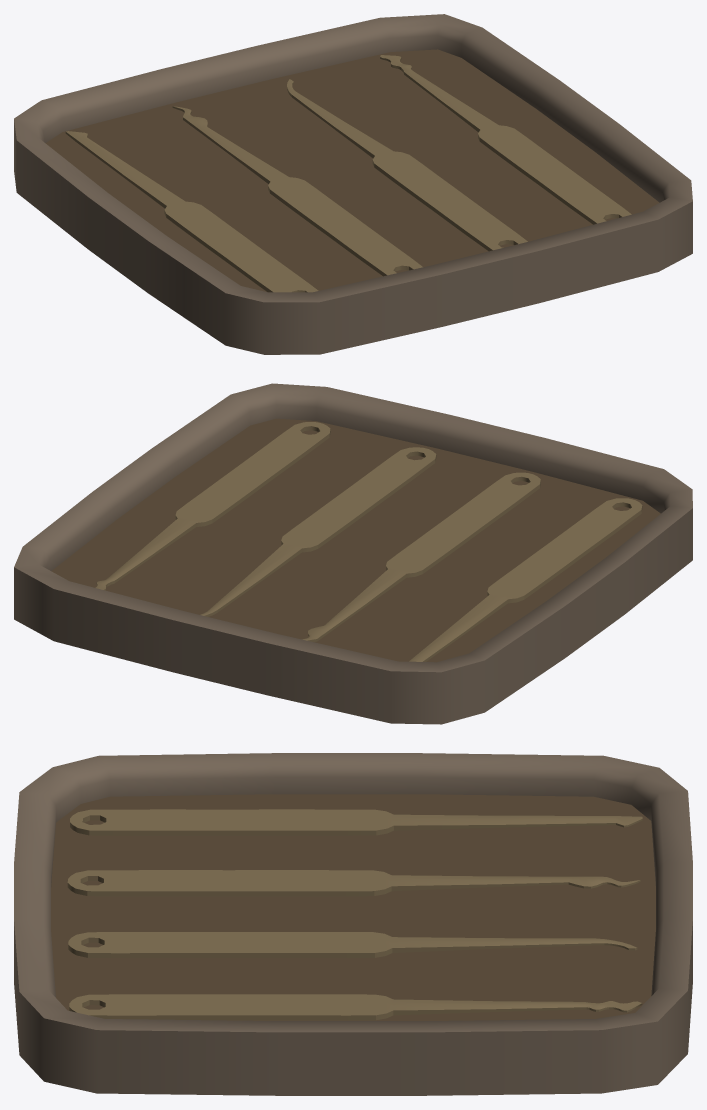
File: LockPickToolKit.fbx
The picture shows the model from 3 angles, top to bottom: view 1: azimuth 30°, elevation 25°; view 2: azimuth 150°, elevation 25°; view 3: azimuth 270°, elevation 25°; orthographic projection. The views are drawn at different scales.
Visible parts, largest first — view 1: Box, LockPick, LockPick2, LockPick4, LockPick3; view 2: Box, LockPick, LockPick2, LockPick4, LockPick3; view 3: Box, LockPick, LockPick2, LockPick4, LockPick3.
Part boxes in pixels (left/top/right/bottom): Box: left=14, top=14, right=692, bottom=354; LockPick: left=65, top=131, right=318, bottom=292; LockPick2: left=172, top=106, right=422, bottom=276; LockPick4: left=380, top=55, right=631, bottom=224; LockPick3: left=287, top=79, right=527, bottom=251; Box: left=14, top=383, right=692, bottom=724; LockPick: left=409, top=498, right=642, bottom=661; LockPick2: left=302, top=472, right=540, bottom=641; LockPick4: left=95, top=422, right=330, bottom=590; LockPick3: left=200, top=447, right=436, bottom=616; Box: left=14, top=753, right=692, bottom=1095; LockPick: left=70, top=809, right=642, bottom=835; LockPick2: left=67, top=870, right=640, bottom=896; LockPick4: left=69, top=994, right=642, bottom=1020; LockPick3: left=68, top=932, right=637, bottom=957.
Bounding box in the file's own units: 13.86 × 1.47 × 14.24.
